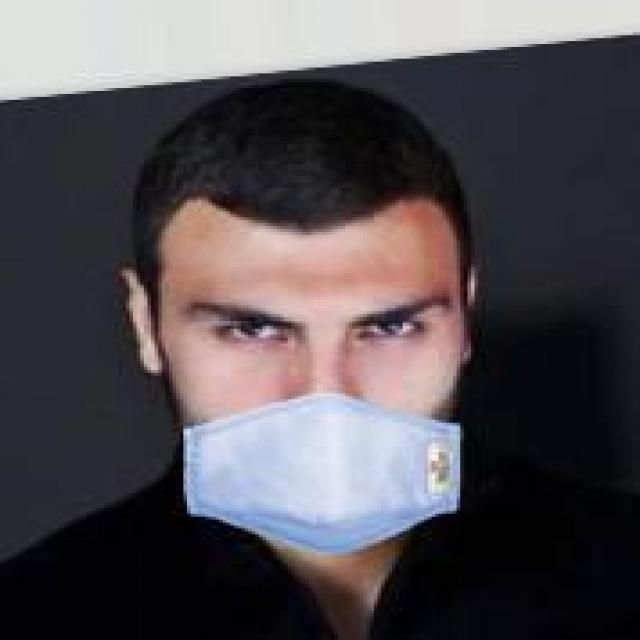mask: (21, 82, 522, 558)
